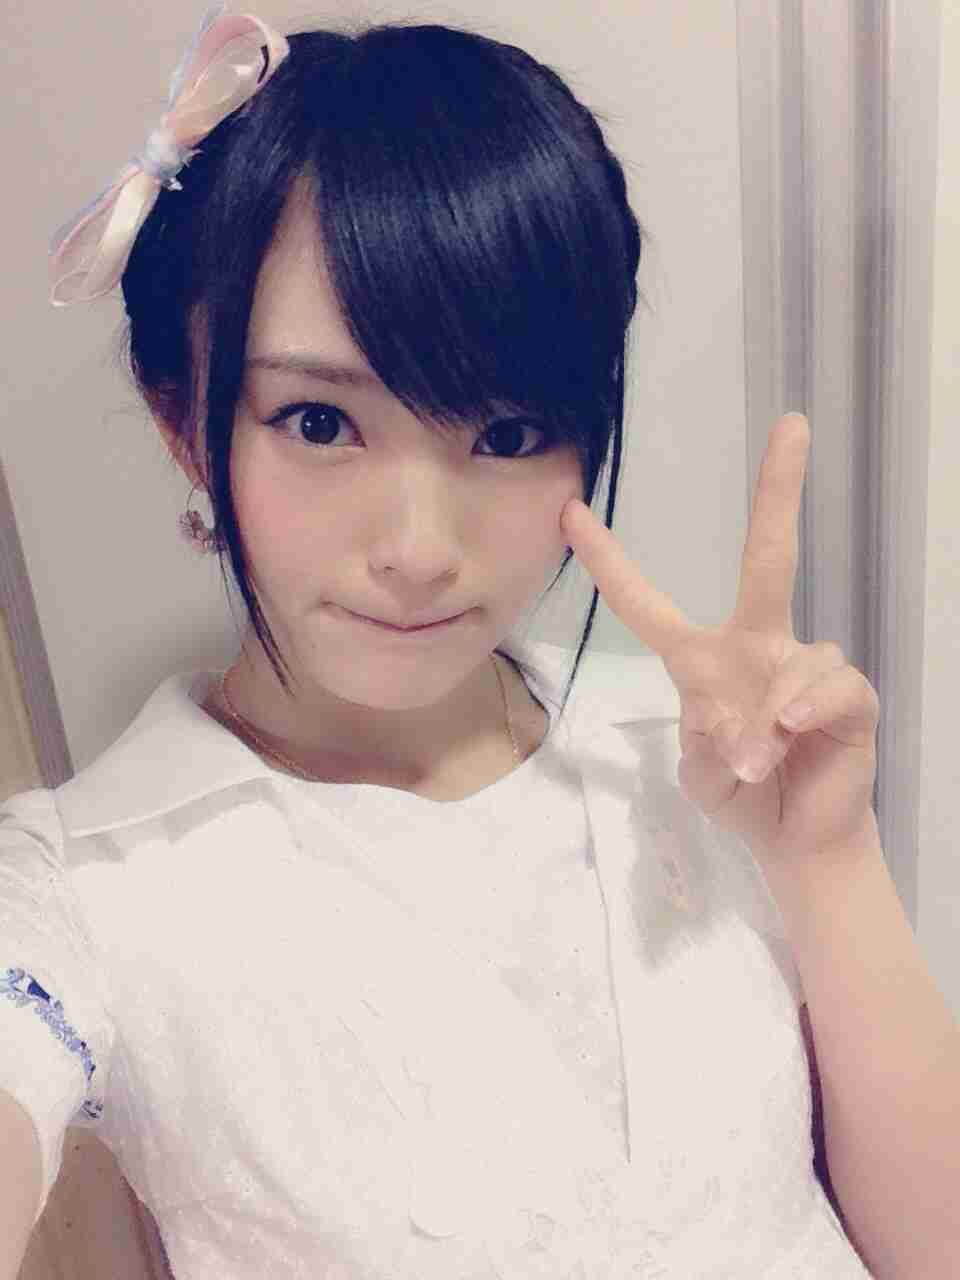face: (216, 158, 588, 718)
hand: (559, 408, 884, 849)
